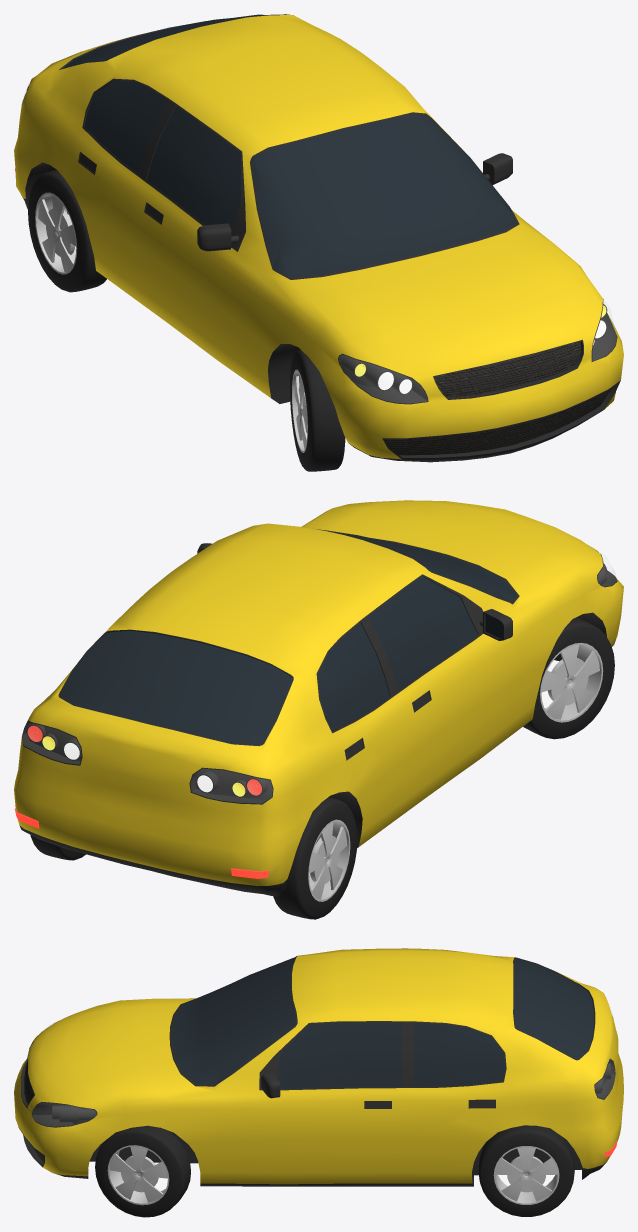
Rendered from car-taxi.glb.
The picture shows the model from 3 angles, top to bottom: view 1: azimuth 30°, elevation 25°; view 2: azimuth 150°, elevation 25°; view 3: azimuth 270°, elevation 25°; orthographic projection. The views are drawn at different scales.
Visible parts, largest first — view 1: CarBody2, WheelRR.003, WheelFR.003; view 2: CarBody2, WheelFR.003, WheelRR.003, WheelRL.003; view 3: CarBody2, WheelRL.003, WheelFL.003.
Part boxes in pixels (x1=…): CarBody2: x1=14, y1=14, x2=623, y2=462; WheelRR.003: x1=28, y1=170, x2=106, y2=292; WheelFR.003: x1=290, y1=350, x2=345, y2=471; CarBody2: x1=14, y1=500, x2=623, y2=896; WheelFR.003: x1=523, y1=617, x2=614, y2=739; WheelRR.003: x1=273, y1=797, x2=357, y2=919; WheelRL.003: x1=30, y1=835, x2=85, y2=860; CarBody2: x1=14, y1=948, x2=623, y2=1186; WheelRL.003: x1=478, y1=1125, x2=574, y2=1216; WheelFL.003: x1=95, y1=1125, x2=190, y2=1217.
Size of the model in its own units: 2.05 by 1.54 by 4.43.
Materials: 11 (1 with a texture image).
